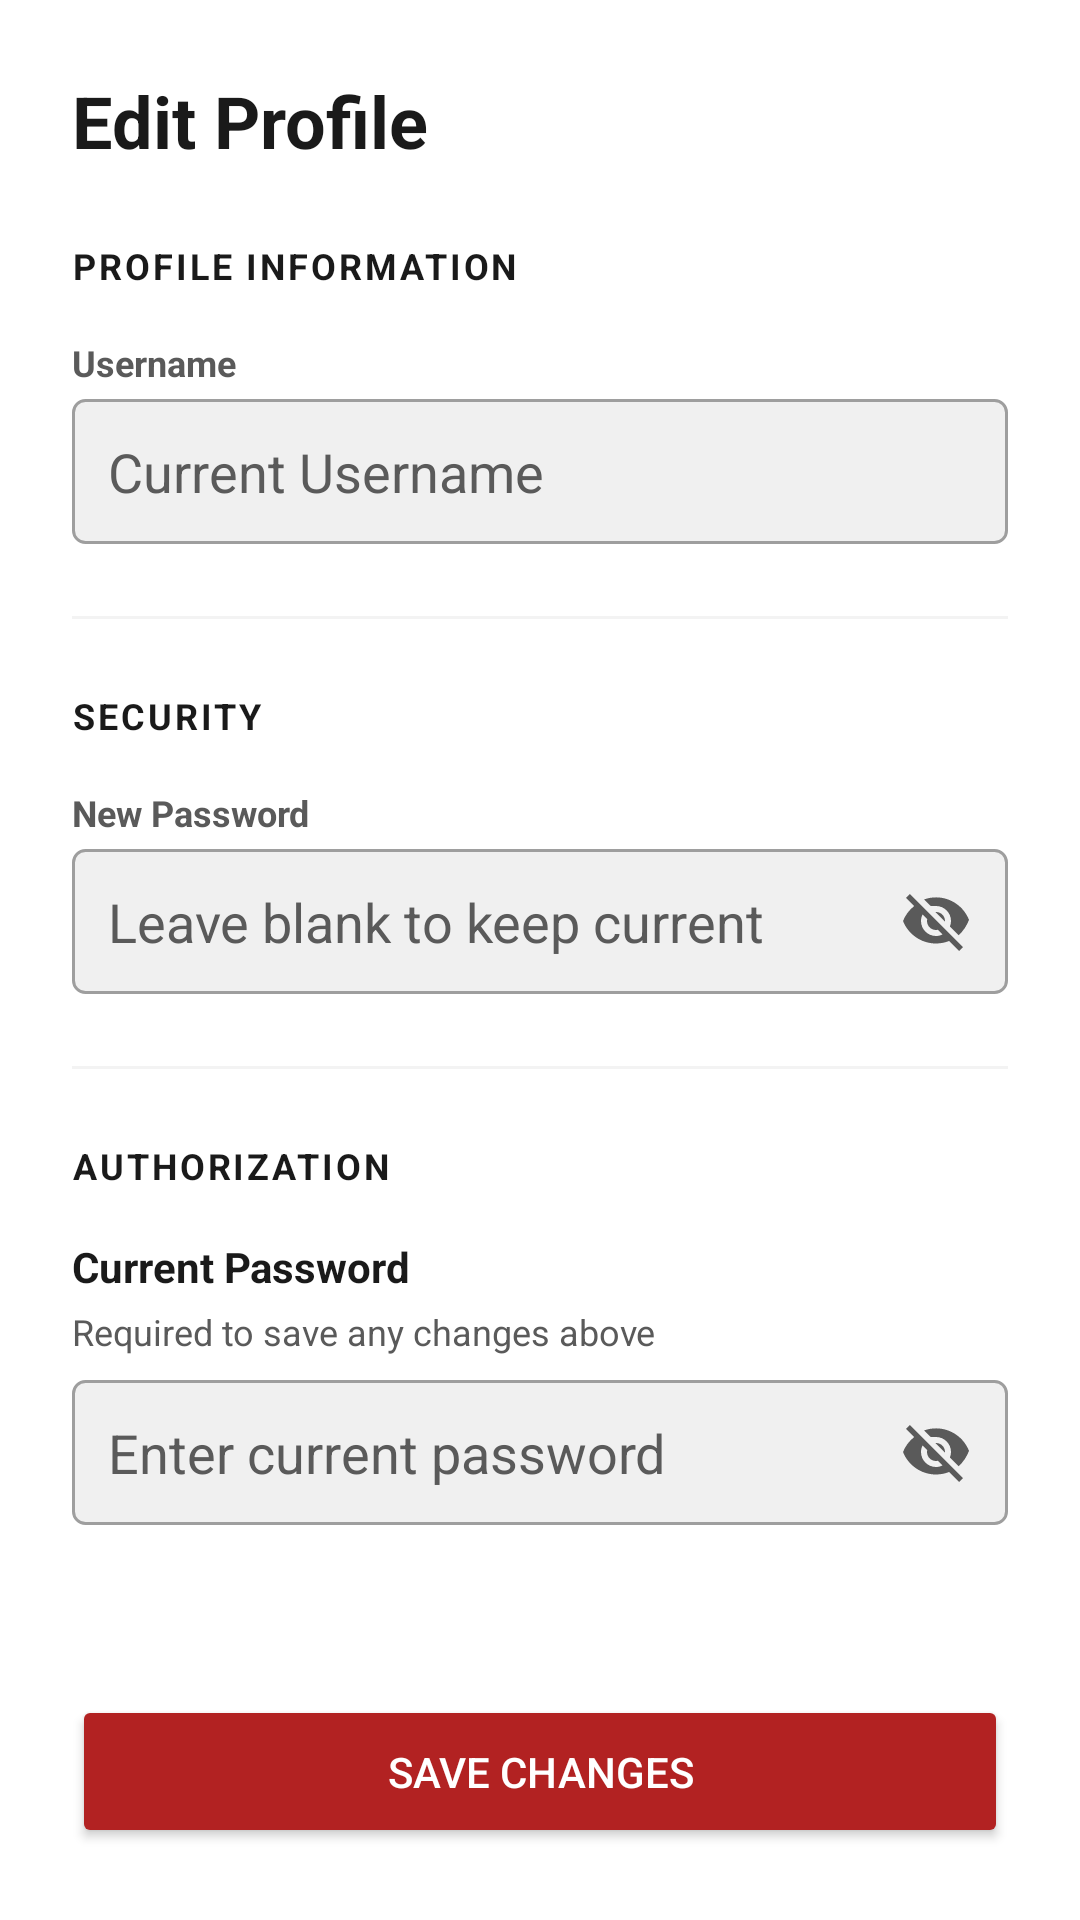

Named icons in this screenshot (1080x1920) and their bounding boxes, (x1, y1, x2, y2):
Toggle Visibility: (903, 894, 969, 951), (903, 1425, 969, 1482)
